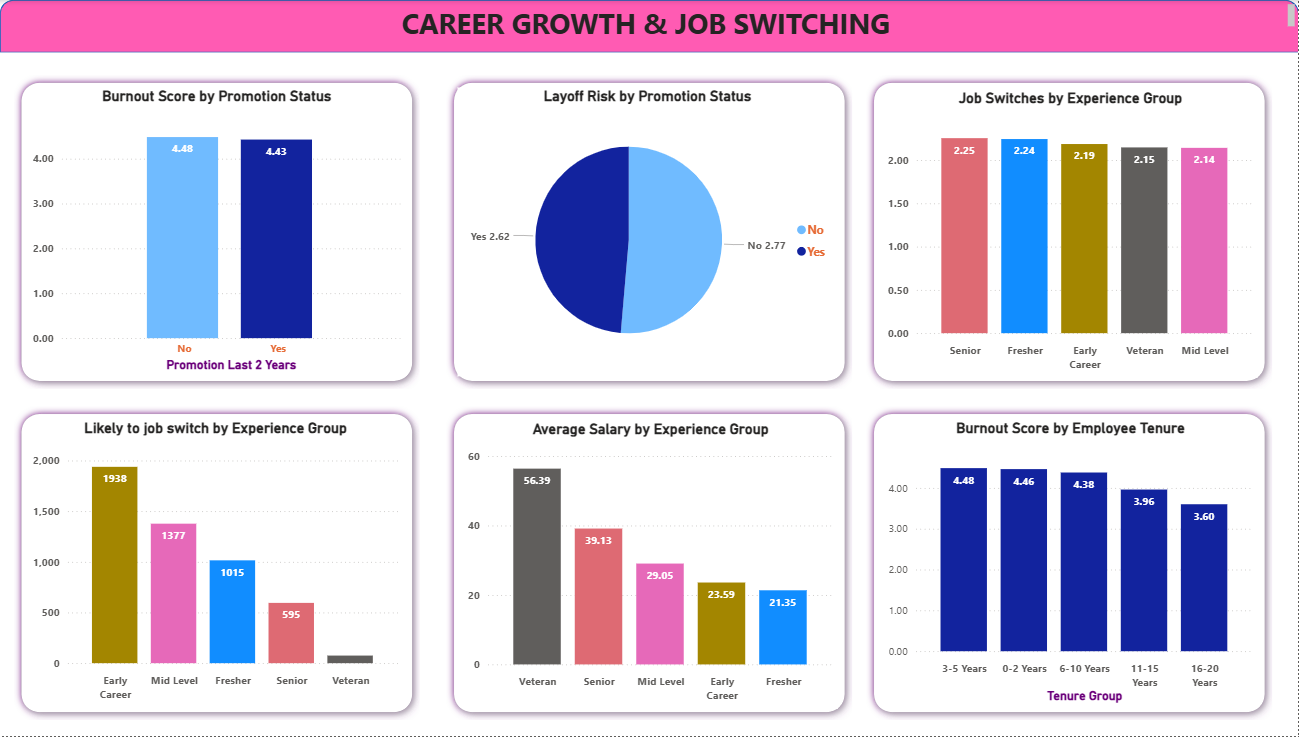

Layout of this report page (visuals, bound fields, positions):
{"tool":"powerbi","page":{"name":"Page 5","canvas":[1500,850],"ordinal":4},"visuals":[{"type":"shape","box":[0,0,1499.9,60.6],"z":0},{"type":"textbox","box":[0,0,1499.9,49.1],"z":1000},{"type":"shape","box":[15.9,86.6,469.2,362.3],"z":2000},{"type":"shape","box":[515.4,86.6,469.2,362.3],"z":3000},{"type":"shape","box":[1000.4,86.6,469.2,362.3],"z":4000},{"type":"shape","box":[15.9,469.2,469.2,362.3],"z":5000},{"type":"shape","box":[515.4,469.2,469.2,362.3],"z":6000},{"type":"shape","box":[1000.4,469.2,469.2,362.3],"z":7000},{"type":"clusteredColumnChart","title":"Burnout Score by Promotion Status","fields":{"Y":["public developer_burnout_data.Avg Burnout"],"Category":["public developer_burnout_data.promotion_last_2_years"]},"box":[33.2,101.1,434.5,333.5],"z":8000},{"type":"pieChart","title":"Layoff Risk by Promotion Status","fields":{"Category":["public developer_burnout_data.promotion_last_2_years"],"Y":["public developer_burnout_data.High Risk %"]},"box":[528.4,101.1,438.9,333.5],"z":9000},{"type":"clusteredColumnChart","title":"Job Switches by Experience Group","fields":{"Category":["public developer_burnout_data.Experience Group"],"Y":["Avg(public developer_burnout_data.number_of_switches)"]},"box":[1020.6,102.5,431.6,333.5],"z":10000},{"type":"clusteredColumnChart","title":"Likely to job switch by Experience Group","fields":{"Category":["public developer_burnout_data.Experience Group"],"Y":["CountNonNull(public developer_burnout_data.likely_to_switch_job)"]},"box":[33.2,483.6,431.6,333.5],"z":11000},{"type":"clusteredColumnChart","title":"Average Salary by Experience Group","fields":{"Category":["public developer_burnout_data.Experience Group"],"Y":["Avg(public developer_burnout_data.salary_lpa)"]},"box":[535.6,485.1,431.6,333.5],"z":12000},{"type":"clusteredColumnChart","title":"Burnout Score by Employee Tenure","fields":{"Y":["public developer_burnout_data.Avg Burnout"],"Category":["public developer_burnout_data.Tenure Group"]},"box":[1020.6,483.6,431.6,333.5],"z":13000}]}

Visuals, with their boxes in screenshot pixels (x1, y1, x2, y2), scaled from the page's 1500x850 canvas onto the 1299x737 screenshot:
shape: 0/0/1298/53
textbox: 0/0/1298/43
shape: 14/75/420/389
shape: 446/75/853/389
shape: 866/75/1273/389
shape: 14/407/420/721
shape: 446/407/853/721
shape: 866/407/1273/721
"Burnout Score by Promotion Status" clusteredColumnChart: 29/88/405/377
"Layoff Risk by Promotion Status" pieChart: 458/88/838/377
"Job Switches by Experience Group" clusteredColumnChart: 884/89/1258/378
"Likely to job switch by Experience Group" clusteredColumnChart: 29/419/403/708
"Average Salary by Experience Group" clusteredColumnChart: 464/421/838/710
"Burnout Score by Employee Tenure" clusteredColumnChart: 884/419/1258/708
